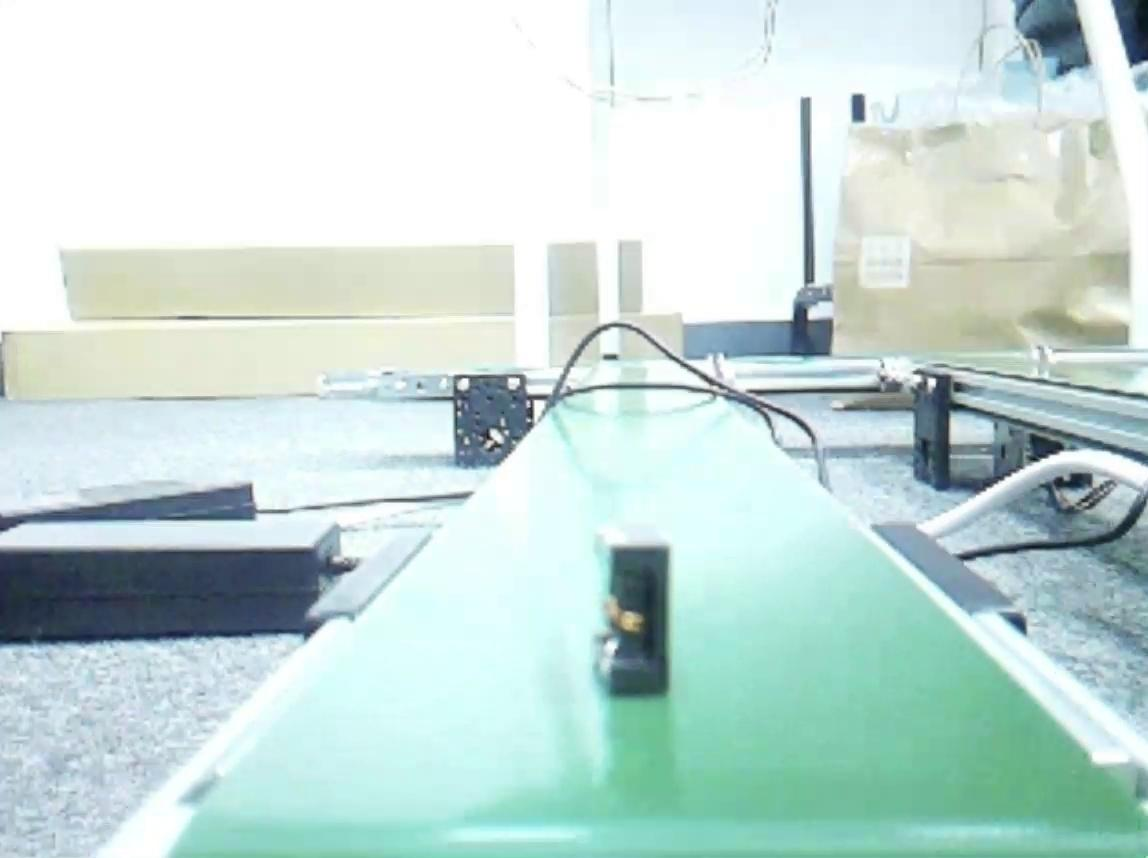inductor: (595, 535, 670, 698)
